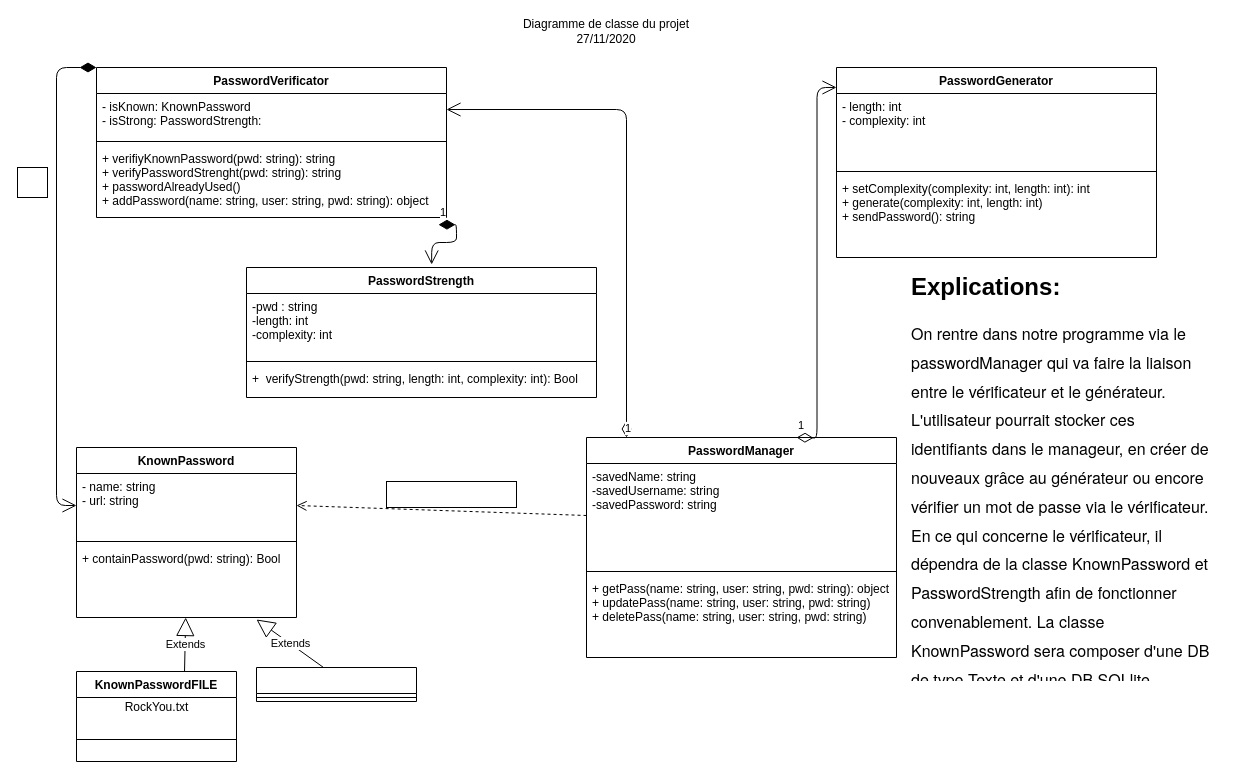
The diagram is 1234 pixels wide and 779 high, and some of its shapes have lost their labels. The shapes that lost their labels are listed below. From the top down, each one's centre as x and y in pixels, then its label:
At pixel 451 494: "Saved Used Password".
At pixel 336 684: "StoredPasswordDB".
